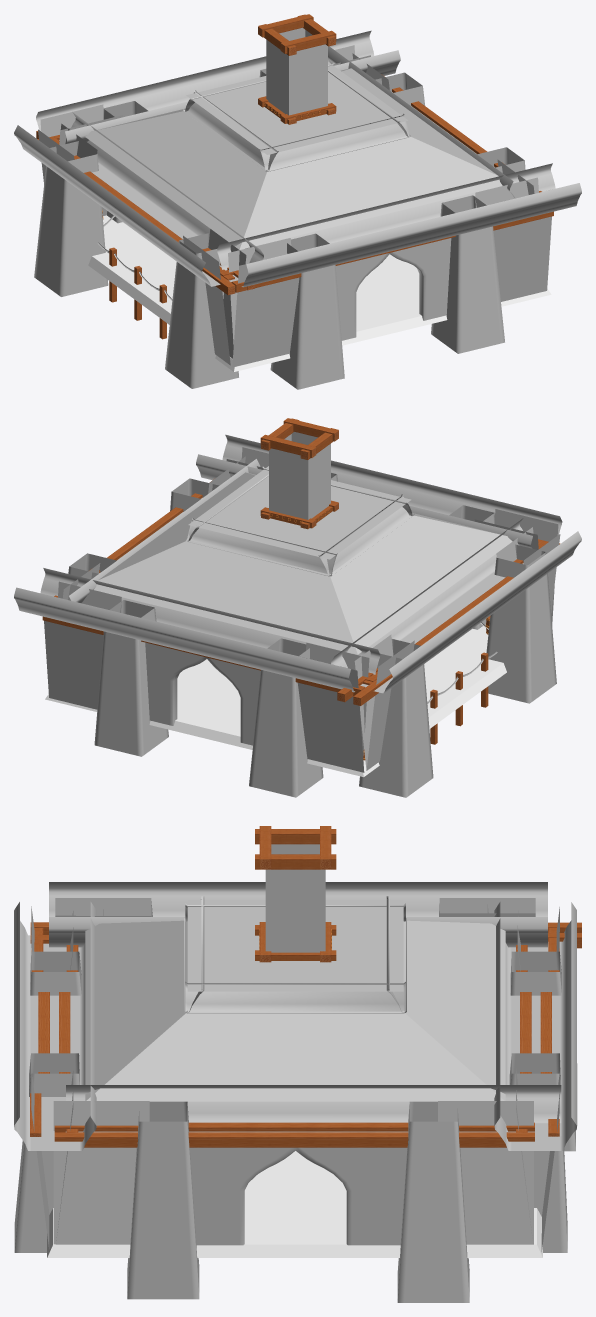
The model's file is Armory_A.fbx.
3 views of the same model, one above another, from view 1: azimuth 30°, elevation 25°; view 2: azimuth 150°, elevation 25°; view 3: azimuth 270°, elevation 25° (orthographic). The views are drawn at different scales.
Visible parts, largest first — view 1: GameObject_mesh_mesh.260; view 2: GameObject_mesh_mesh.260; view 3: GameObject_mesh_mesh.260.
Boxes of the visible parts, <box> form: GameObject_mesh_mesh.260: <box>14,14,581,389</box>; GameObject_mesh_mesh.260: <box>14,418,581,797</box>; GameObject_mesh_mesh.260: <box>14,826,581,1302</box>.
Bounding box in the file's own units: 2340 × 1599 × 2364.
